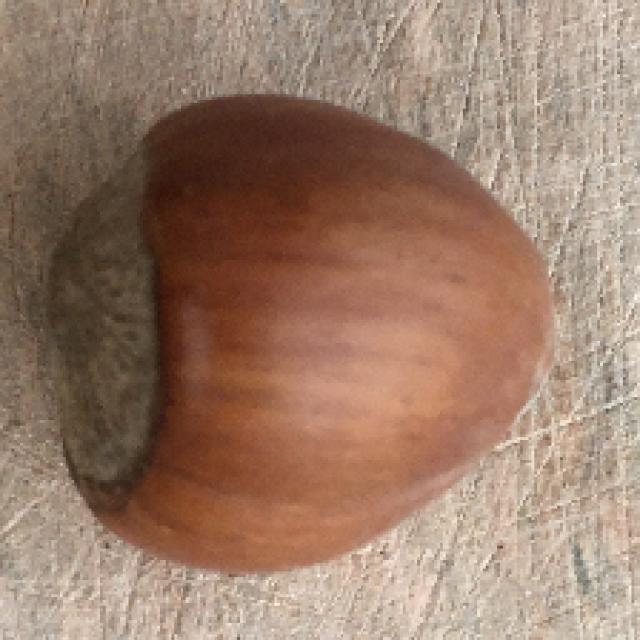damagedHazelnut: (36, 95, 579, 574)
